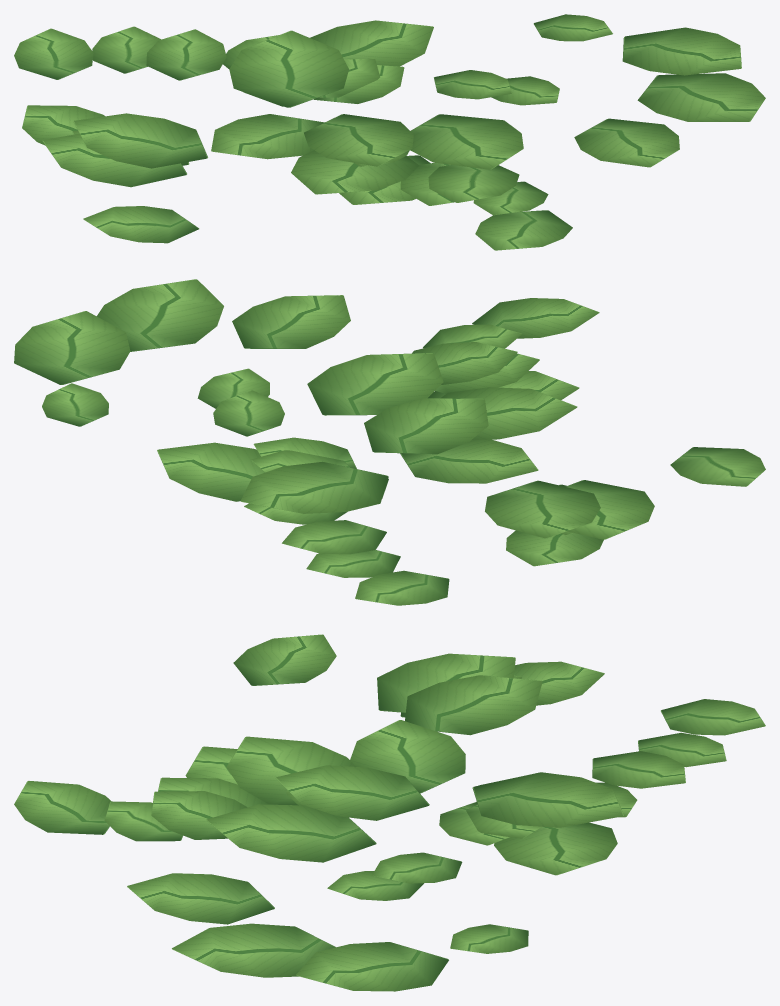
Rendered from duckweed.glb.
The picture shows the model from 3 angles, top to bottom: view 1: azimuth 30°, elevation 25°; view 2: azimuth 150°, elevation 25°; view 3: azimuth 270°, elevation 25°; orthographic projection. The views are drawn at different scales.
Visible parts, largest first — view 1: duckweed; view 2: duckweed; view 3: duckweed.
Boxes of the visible parts, x1,y1,x2,y2 form: duckweed: [14, 14, 765, 250]; duckweed: [14, 279, 765, 605]; duckweed: [14, 634, 765, 991].
Size of the model in its own units: 0.7441 by 0.0093 by 0.6639.
Materials: 1 (1 with a texture image).
